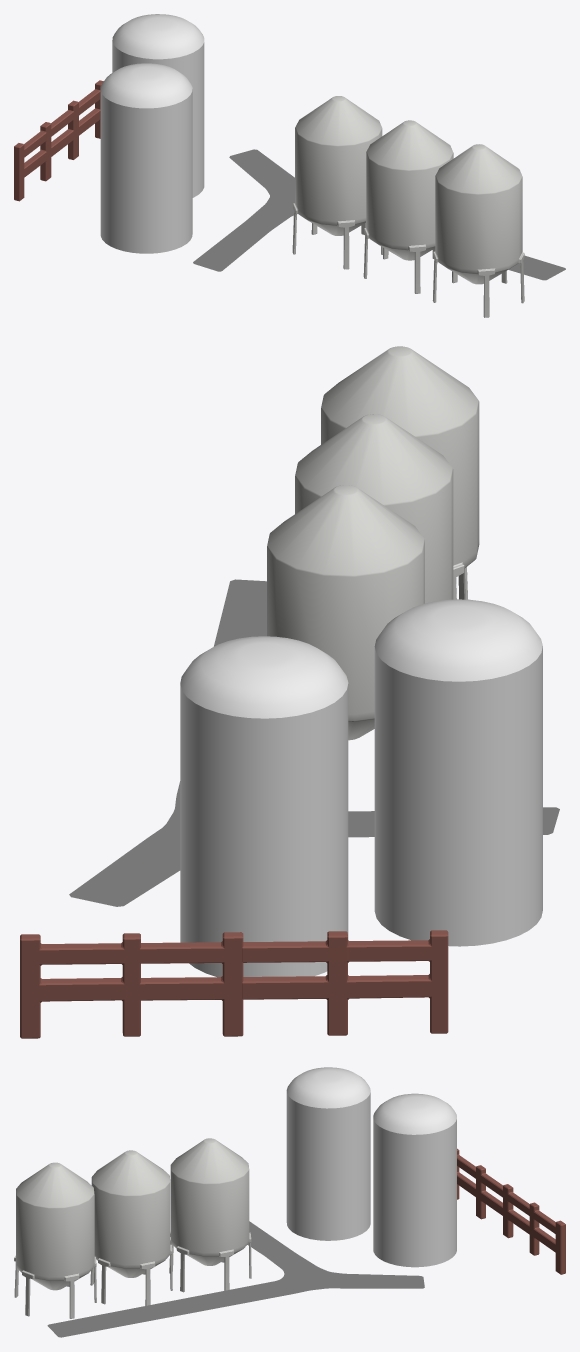
The model's file is exportDepot.fbx.
3 renders of one model, top to bottom at view 1: azimuth 30°, elevation 25°; view 2: azimuth 150°, elevation 25°; view 3: azimuth 270°, elevation 25°, orthographic. The views are drawn at different scales.
Visible parts, largest first — view 1: Cylinder.144, Cylinder.146, Cylinder.142, Cylinder.145, Cylinder.143, Plane.008, Cube.115; view 2: Cylinder.144, Cylinder.143, Cube.115, Cylinder.142, Cylinder.146, Cylinder.145, Plane.008; view 3: Cylinder.144, Cylinder.143, Cylinder.146, Cylinder.142, Cylinder.145, Plane.008, Cube.115.
Part boxes in pixels (left/top/right/bottom): Cylinder.144: left=100, top=63, right=192, bottom=253; Cylinder.146: left=432, top=144, right=524, bottom=317; Cylinder.142: left=292, top=96, right=382, bottom=269; Cylinder.145: left=363, top=120, right=453, bottom=293; Cylinder.143: left=112, top=14, right=204, bottom=197; Plane.008: left=193, top=149, right=565, bottom=280; Cube.115: left=14, top=80, right=103, bottom=201; Cylinder.144: left=374, top=599, right=542, bottom=946; Cylinder.143: left=180, top=636, right=348, bottom=977; Cube.115: left=20, top=930, right=448, bottom=1038; Cylinder.142: left=267, top=485, right=424, bottom=740; Cylinder.146: left=321, top=346, right=479, bottom=599; Cylinder.145: left=295, top=414, right=453, bottom=603; Plane.008: left=69, top=579, right=559, bottom=906; Cylinder.144: left=286, top=1067, right=370, bottom=1240; Cylinder.143: left=373, top=1093, right=456, bottom=1267; Cylinder.146: left=14, top=1162, right=96, bottom=1318; Cylinder.142: left=169, top=1138, right=251, bottom=1292; Cylinder.145: left=90, top=1150, right=172, bottom=1305; Plane.008: left=47, top=1221, right=424, bottom=1337; Cube.115: left=457, top=1148, right=565, bottom=1274.
Size of the model in its own units: 0.5522 by 0.2568 by 0.8636.
